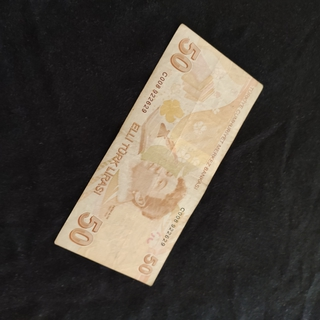50TLBack: (54, 22, 264, 288)
